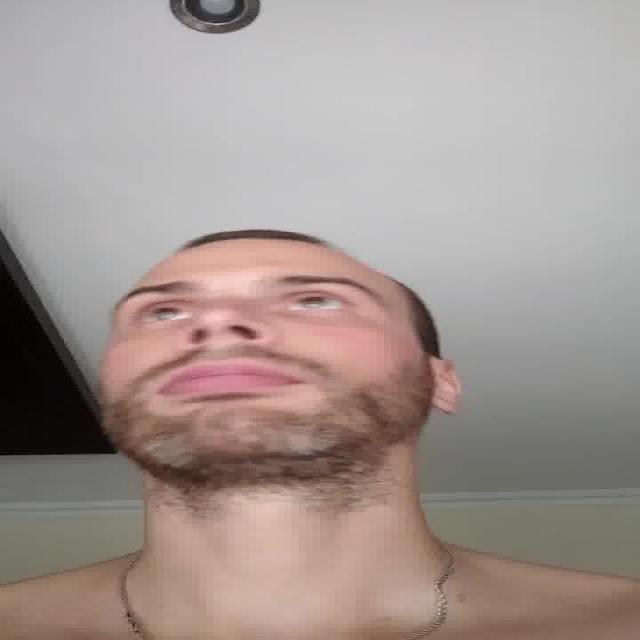earlobe: (428, 396, 460, 416)
eye: (281, 292, 347, 314), (136, 304, 189, 326)
nose: (180, 332, 272, 366)
wholeear: (431, 356, 464, 416)
